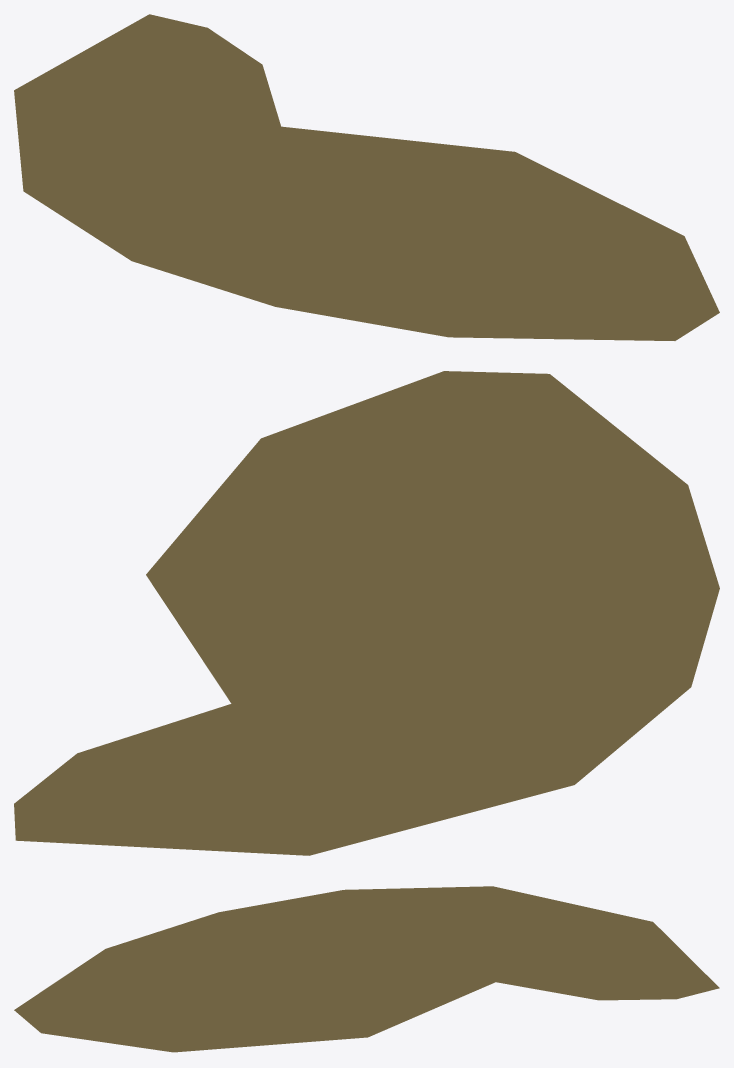
Rendered from WingL_0.glb.
The picture shows the model from 3 angles, top to bottom: view 1: azimuth 30°, elevation 25°; view 2: azimuth 150°, elevation 25°; view 3: azimuth 270°, elevation 25°; orthographic projection. The views are drawn at different scales.
Parts seen in each view (by area): view 1: WingL; view 2: WingL; view 3: WingL.
Part boxes in pixels (box(x1,y1,x2,y2)): WingL: box(14, 14, 719, 340); WingL: box(14, 371, 719, 855); WingL: box(14, 886, 719, 1052).
Size of the model in its own units: 0.4142 by 0.00142 by 0.7434.
